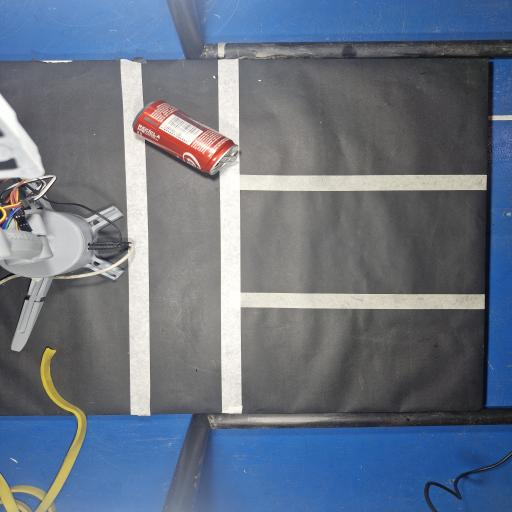lata: (133, 100, 238, 175)
